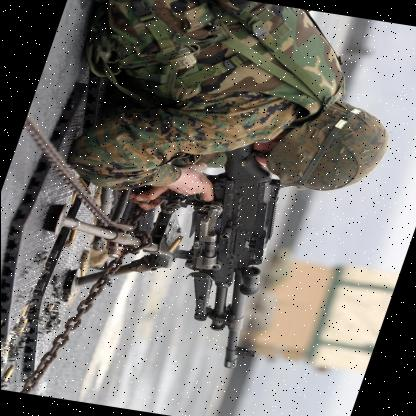rifle: (103, 132, 325, 374)
